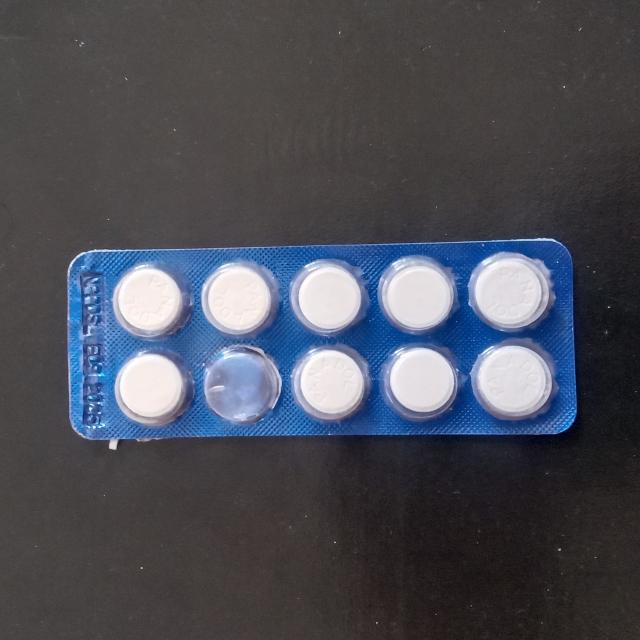defect: (200, 343, 286, 434)
